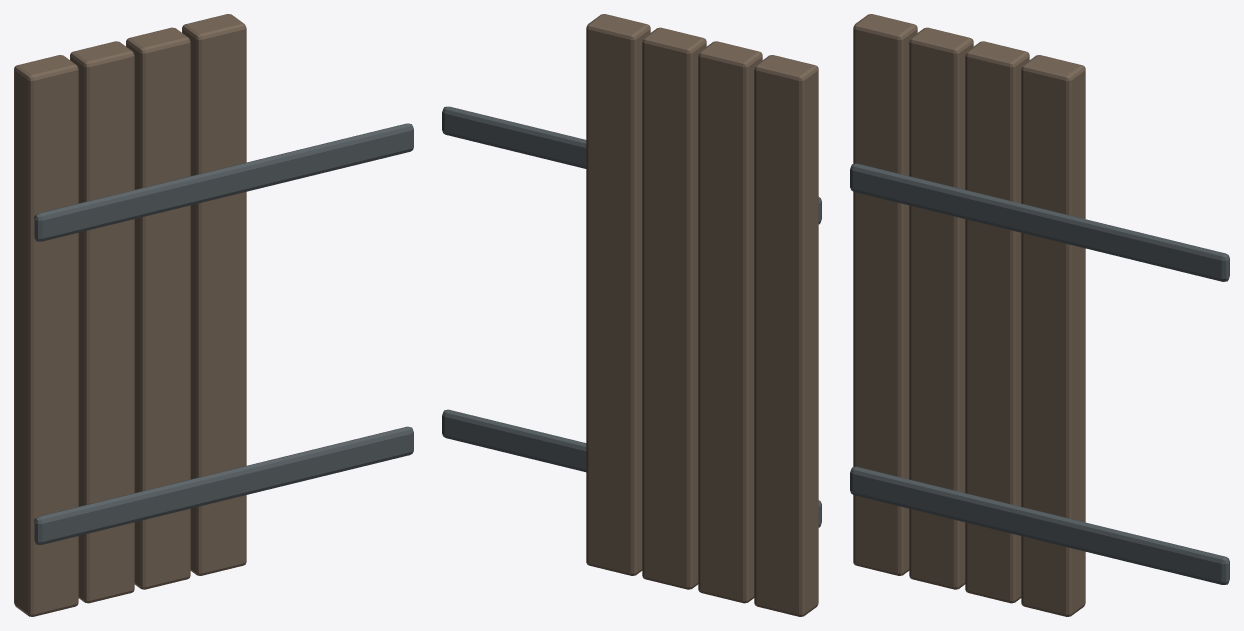
File: wood_door_broken.glb
3 renders of one model, left to right at view 1: azimuth 30°, elevation 25°; view 2: azimuth 150°, elevation 25°; view 3: azimuth 330°, elevation 25°, orthographic.
Parts seen in each view (by area): view 1: Body.028; view 2: Body.028; view 3: Body.028.
Part boxes in pixels (left/top/right/bottom): Body.028: left=14, top=14, right=413, bottom=616; Body.028: left=442, top=14, right=821, bottom=616; Body.028: left=850, top=14, right=1229, bottom=616.
Bounding box in the file's own units: 0.985 × 1.34 × 0.1045.
